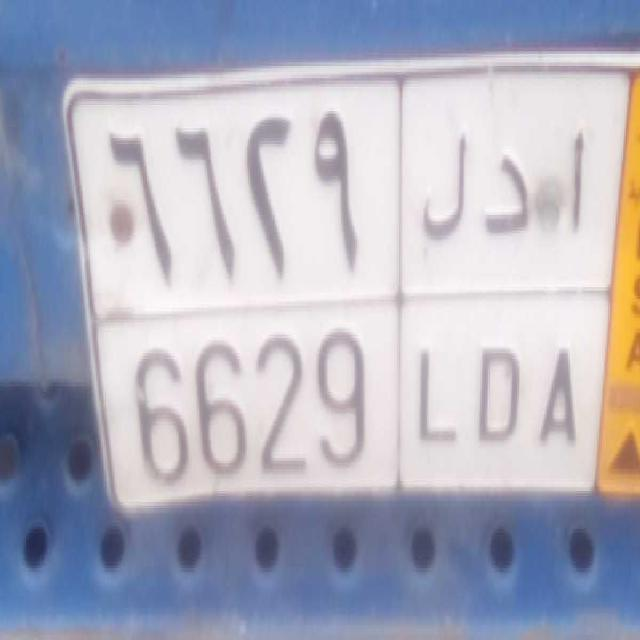license_plate: (97, 301, 603, 503)
